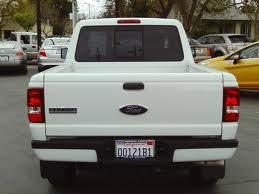Car: (17, 12, 248, 194), (201, 34, 259, 97), (1, 40, 36, 83)
